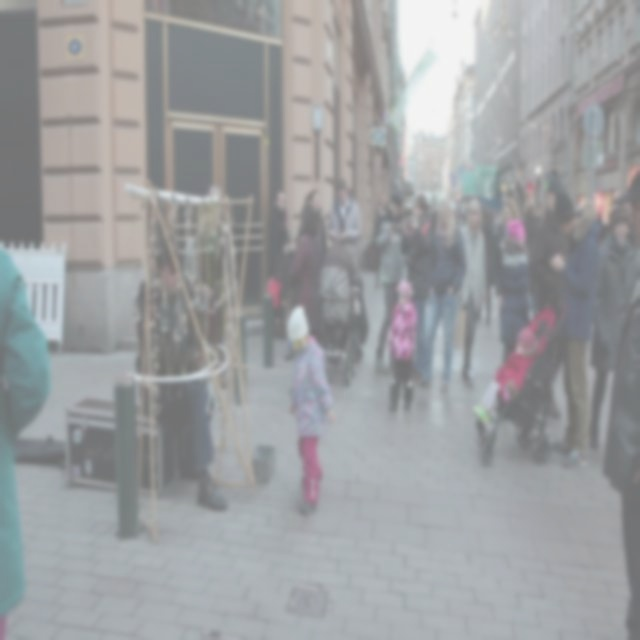pessoa: (136, 242, 230, 512), (0, 245, 58, 639), (546, 188, 603, 471), (600, 253, 640, 639), (585, 202, 639, 454), (284, 302, 338, 518), (415, 196, 468, 395), (528, 175, 566, 422), (372, 186, 410, 376), (398, 192, 434, 384), (472, 326, 536, 426), (289, 201, 325, 347), (498, 217, 533, 364), (459, 197, 486, 387), (385, 277, 418, 413), (266, 188, 292, 340), (491, 196, 521, 323), (326, 176, 364, 250), (476, 206, 497, 328), (280, 232, 298, 363), (616, 165, 640, 256), (525, 204, 540, 323), (305, 186, 328, 254), (371, 200, 384, 291), (295, 190, 310, 242), (478, 196, 498, 235), (450, 198, 470, 228), (376, 198, 392, 232), (426, 194, 438, 230), (594, 209, 605, 248), (400, 198, 416, 220)
